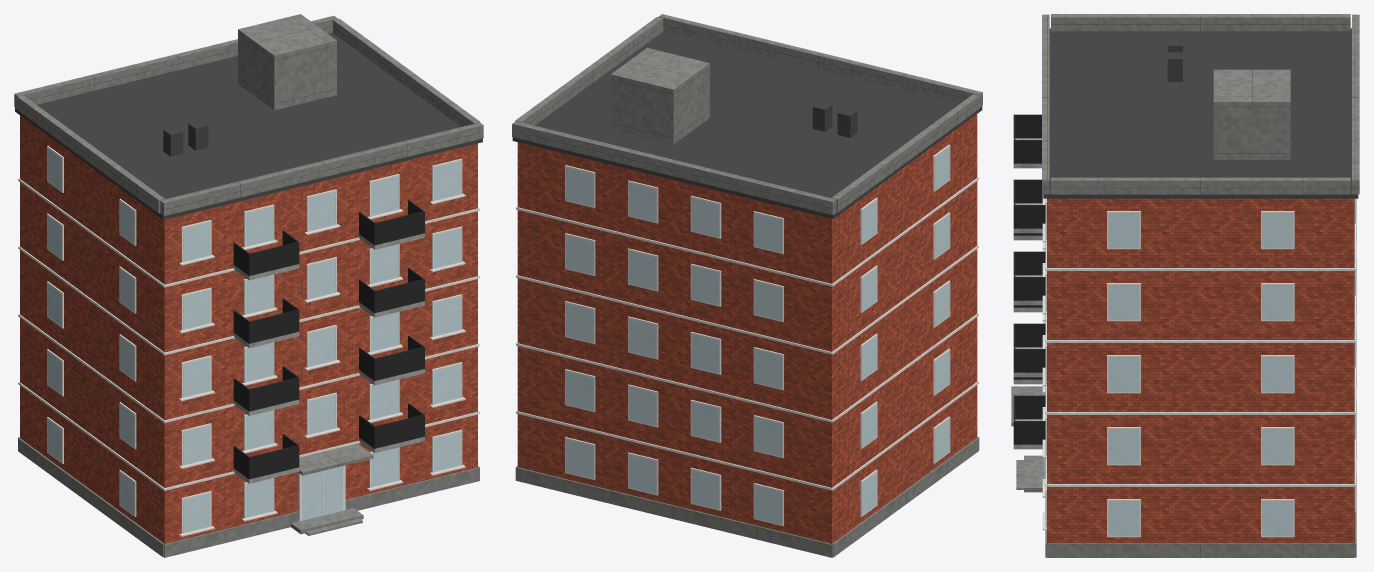
Rendered from apartment_5story_variant_a.glb.
The picture shows the model from 3 angles, left to right: view 1: azimuth 30°, elevation 25°; view 2: azimuth 150°, elevation 25°; view 3: azimuth 270°, elevation 25°; orthographic projection. The views are drawn at different scales.
Parts seen in each view (by area): view 1: brick_wall_B5563C, flat_F5F5F0, flat_4A4A4A, concrete_8C8C88, glass_87CEEB, flat_2C2C2C, plaster_F5F5F0, concrete_A8A8A4; view 2: brick_wall_B5563C, flat_4A4A4A, concrete_8C8C88, flat_F5F5F0, glass_87CEEB, plaster_F5F5F0; view 3: brick_wall_B5563C, flat_4A4A4A, concrete_8C8C88, flat_F5F5F0, glass_87CEEB, flat_2C2C2C, plaster_F5F5F0, concrete_A8A8A4.
Boxes of the visible parts, x1=… form: brick_wall_B5563C: x1=20, y1=115, x2=477, y2=543; flat_F5F5F0: x1=47, y1=146, x2=462, y2=533; flat_4A4A4A: x1=15, y1=32, x2=482, y2=219; concrete_8C8C88: x1=14, y1=14, x2=483, y2=557; glass_87CEEB: x1=47, y1=148, x2=461, y2=532; flat_2C2C2C: x1=233, y1=200, x2=424, y2=479; plaster_F5F5F0: x1=18, y1=178, x2=479, y2=536; concrete_A8A8A4: x1=233, y1=233, x2=424, y2=483; brick_wall_B5563C: x1=517, y1=114, x2=977, y2=543; flat_4A4A4A: x1=512, y1=31, x2=982, y2=218; concrete_8C8C88: x1=512, y1=14, x2=982, y2=557; flat_F5F5F0: x1=565, y1=144, x2=950, y2=526; glass_87CEEB: x1=566, y1=147, x2=949, y2=524; plaster_F5F5F0: x1=516, y1=177, x2=978, y2=490; brick_wall_B5563C: x1=1047, y1=198, x2=1354, y2=543; flat_4A4A4A: x1=1043, y1=28, x2=1358, y2=198; concrete_8C8C88: x1=1011, y1=14, x2=1359, y2=557; flat_F5F5F0: x1=1043, y1=198, x2=1356, y2=537; glass_87CEEB: x1=1044, y1=199, x2=1356, y2=535; flat_2C2C2C: x1=1013, y1=114, x2=1045, y2=444; plaster_F5F5F0: x1=1042, y1=194, x2=1355, y2=530; concrete_A8A8A4: x1=1013, y1=138, x2=1042, y2=449.
Bounding box in the file's own units: 15.4 × 18.2 × 13.6.
8 materials, 8 textured.
